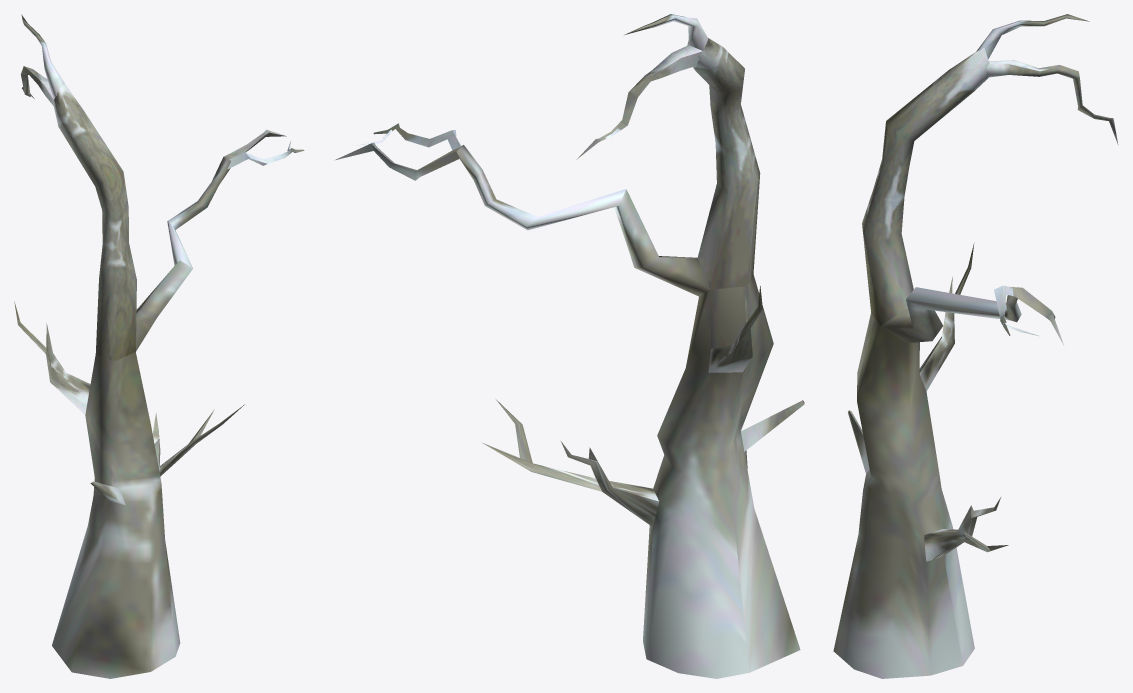
Rendered from h5_xueshu_02.FBX.
3 renders of one model, left to right at view 1: azimuth 30°, elevation 25°; view 2: azimuth 150°, elevation 25°; view 3: azimuth 270°, elevation 25°, orthographic. The views are drawn at different scales.
Parts seen in each view (by area): view 1: h5_xueshu_02; view 2: h5_xueshu_02; view 3: h5_xueshu_02.
Boxes of the visible parts, x1,y1,x2,y2 form: h5_xueshu_02: (14,14,304,678); h5_xueshu_02: (335,14,804,678); h5_xueshu_02: (833,14,1118,678).
Bounding box in the file's own units: 3.71 × 6.49 × 2.68.
Materials: 1 (1 with a texture image).
